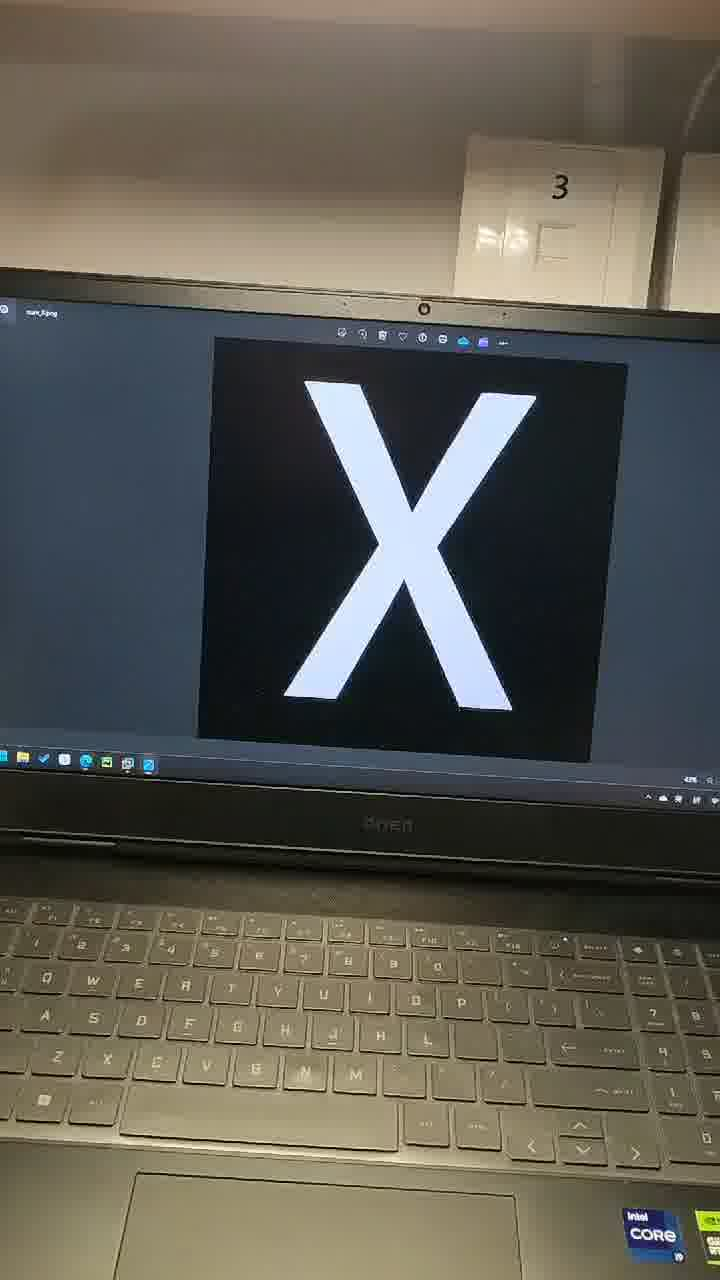X: (208, 317, 629, 807)
